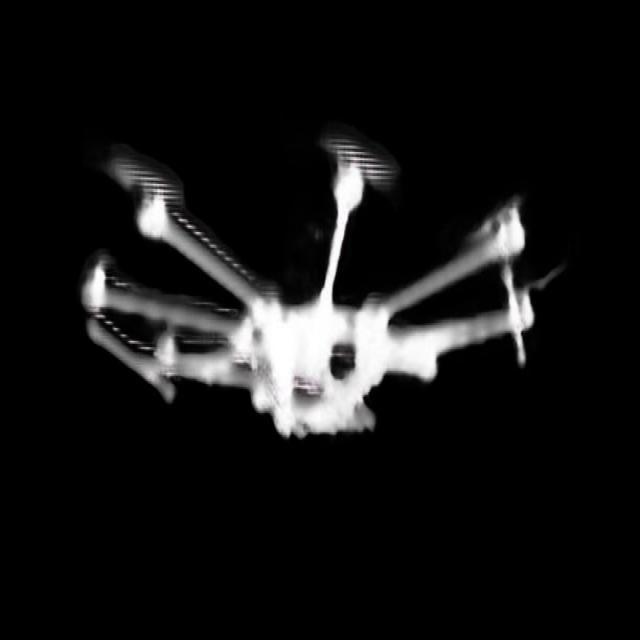drone: (54, 112, 573, 442)
